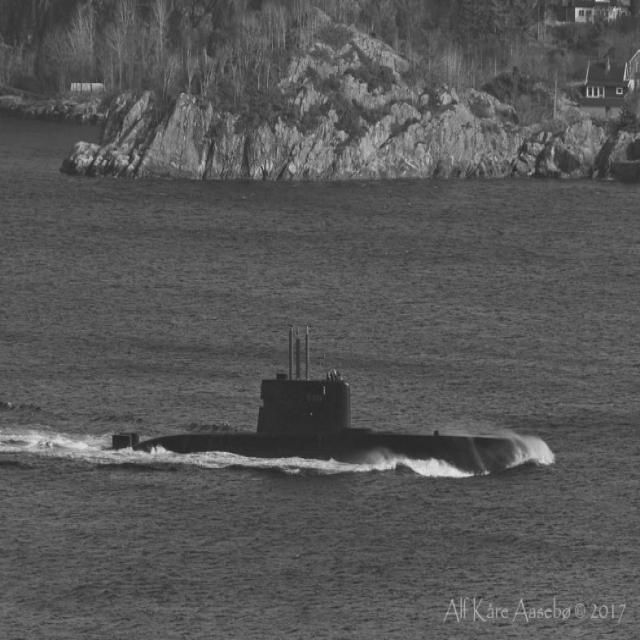submarine: (109, 320, 555, 477)
